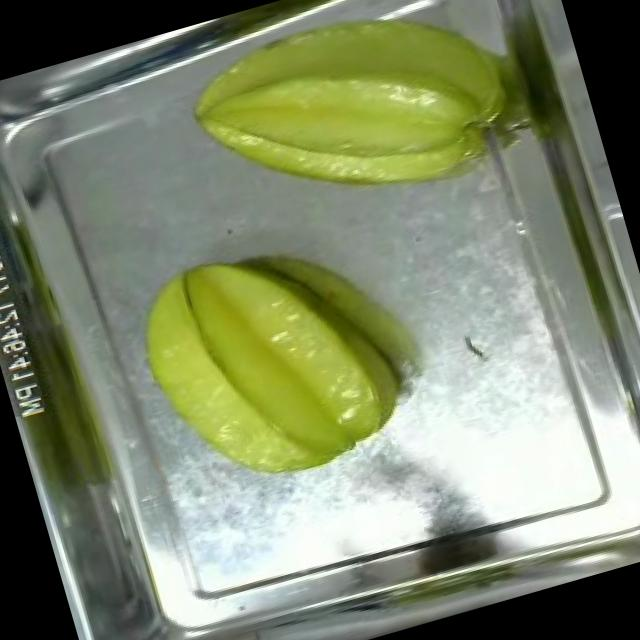fruit: (160, 0, 545, 253), (113, 207, 418, 514)
